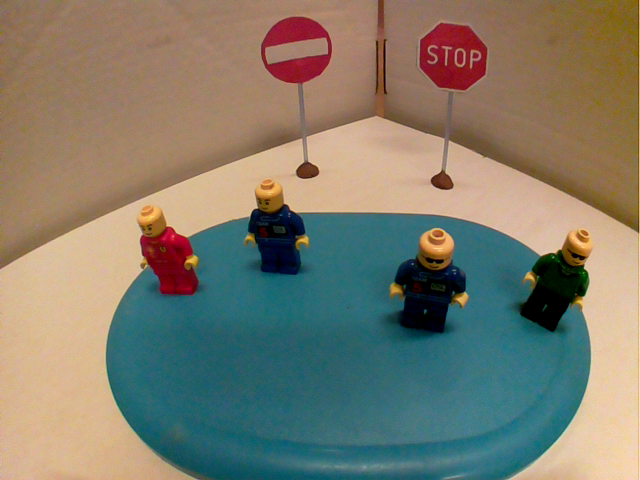Postac LEGO: (385, 220, 473, 339), (517, 220, 598, 341), (240, 177, 314, 281), (129, 197, 204, 299)
Stop: (416, 16, 494, 97)
Zakaz: (258, 14, 335, 87)
